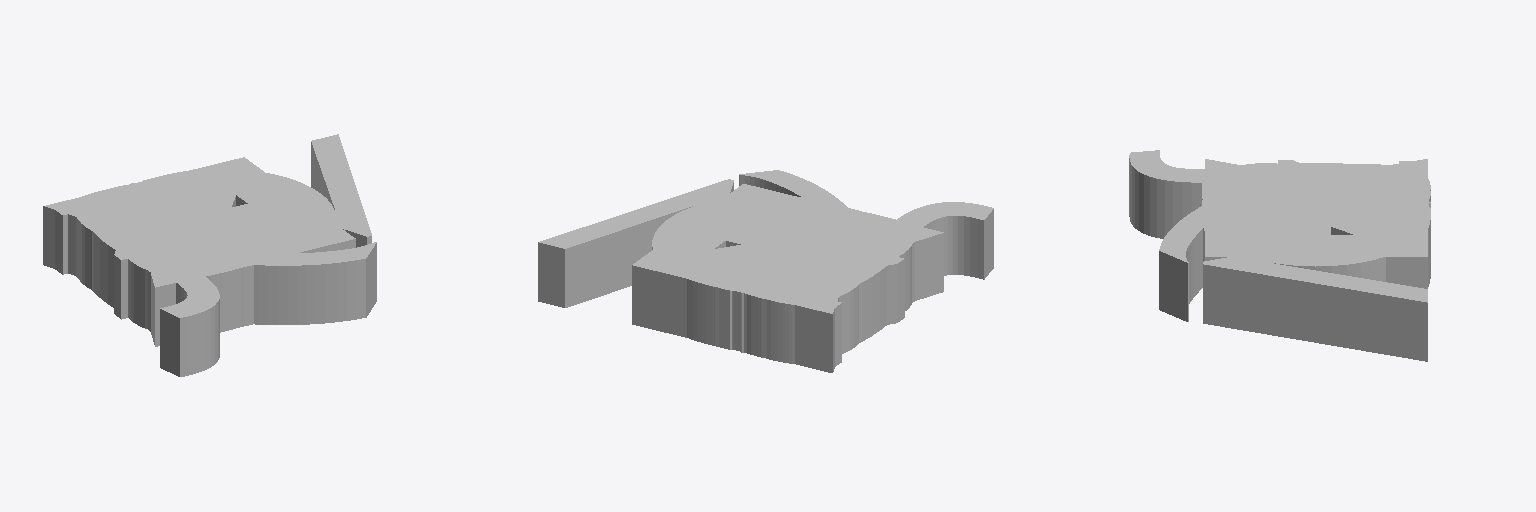
Rendered from char.obj.
The picture shows the model from 3 angles: view 1: azimuth 30°, elevation 25°; view 2: azimuth 150°, elevation 25°; view 3: azimuth 270°, elevation 25°; orthographic projection.
Visible parts, largest first — view 1: Q, J, W, A, X, 0, O, 8, K, U, T, G (+12 smaller); view 2: W, J, A, M, H, Q, 0, T, 4, 3, 8, B (+16 smaller); view 3: W, Q, J, N, A, M, O, G, U, B, 4, T (+6 smaller).
Part boxes in pixels (x1,y1,x2,y2): Q: (99, 170, 376, 324); J: (82, 198, 219, 376); W: (43, 134, 371, 275); A: (129, 182, 342, 346); X: (84, 160, 354, 294); 0: (84, 185, 255, 330); O: (97, 169, 334, 267); 8: (79, 185, 263, 330); K: (145, 168, 339, 253); U: (73, 166, 308, 326); T: (49, 166, 222, 274); G: (98, 167, 334, 267); W: (538, 179, 862, 371); J: (787, 202, 993, 303); A: (730, 186, 943, 352); M: (632, 184, 918, 362); H: (648, 187, 914, 354); Q: (652, 170, 882, 293); 0: (733, 212, 902, 356); T: (666, 208, 868, 371); 4: (719, 206, 904, 349); 3: (738, 213, 920, 363); 8: (725, 210, 912, 356); B: (717, 205, 919, 366); W: (1203, 160, 1427, 361); Q: (1159, 165, 1429, 321); J: (1129, 150, 1425, 238); N: (1205, 176, 1426, 253); A: (1205, 159, 1428, 250); M: (1205, 170, 1427, 288); O: (1202, 165, 1430, 265); G: (1202, 166, 1430, 286); U: (1202, 171, 1427, 247); B: (1206, 169, 1427, 233); 4: (1205, 160, 1430, 213); T: (1205, 161, 1427, 224).
Size of the model in its own units: 1.1 by 0.2 by 0.921.